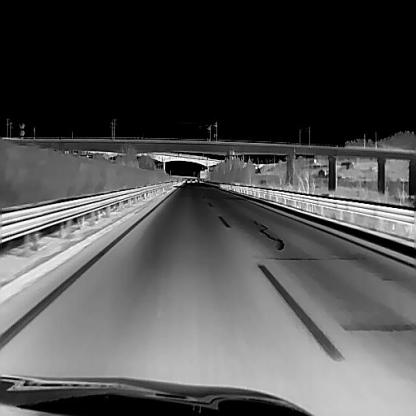car: (186, 177, 190, 182)
